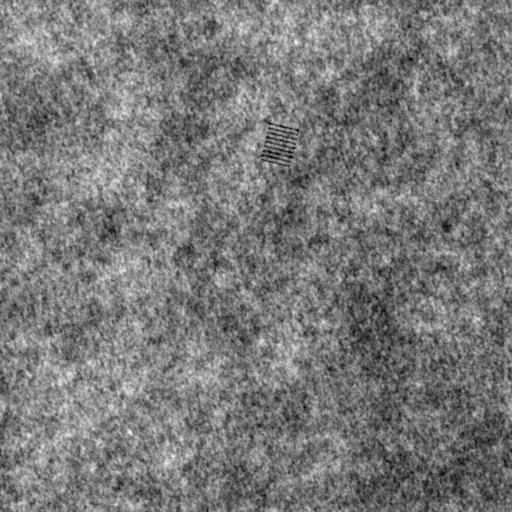DefectTypeB: (260, 121, 300, 168)
